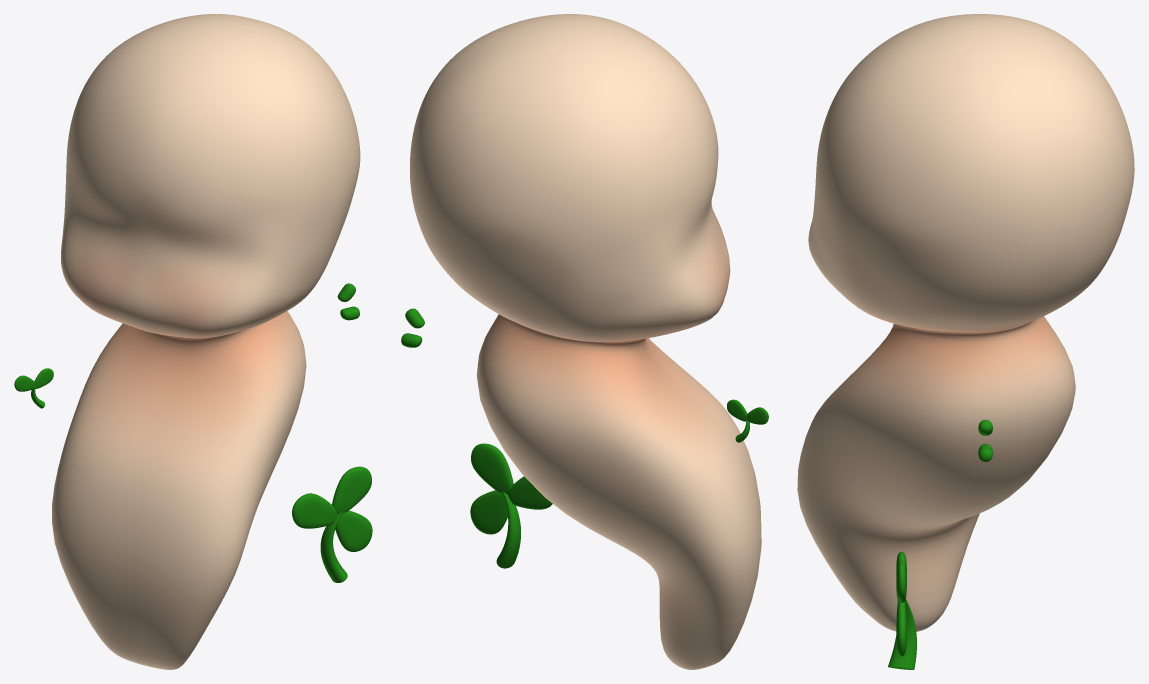
3 views of the same model, side by side, from view 1: azimuth 30°, elevation 25°; view 2: azimuth 150°, elevation 25°; view 3: azimuth 270°, elevation 25° (orthographic). The views are drawn at different scales.
Parts seen in each view (by area): view 1: Roundcube, Cube.001, Cube.002, Cube.003, BézierCurve.002; view 2: Roundcube, Cube.001, Cube.003, BézierCurve.002, Cube.002; view 3: Roundcube, BézierCurve.002, Cube.003.
Part boxes in pixels (left/top/right/bottom): Roundcube: left=52, top=14, right=360, bottom=669; Cube.001: left=332, top=466, right=371, bottom=514; Cube.002: left=292, top=493, right=337, bottom=528; Cube.003: left=335, top=510, right=372, bottom=551; BézierCurve.002: left=320, top=511, right=347, bottom=582; Roundcube: left=410, top=14, right=761, bottom=669; Cube.001: left=471, top=443, right=513, bottom=494; Cube.003: left=470, top=490, right=507, bottom=534; BézierCurve.002: left=496, top=491, right=520, bottom=568; Cube.002: left=507, top=476, right=552, bottom=509; Roundcube: left=797, top=14, right=1134, bottom=631; BézierCurve.002: left=888, top=599, right=916, bottom=669; Cube.003: left=896, top=601, right=906, bottom=656.
Size of the model in its own units: 1.15 by 1.9 by 0.9016.
2 materials, 1 textured.
